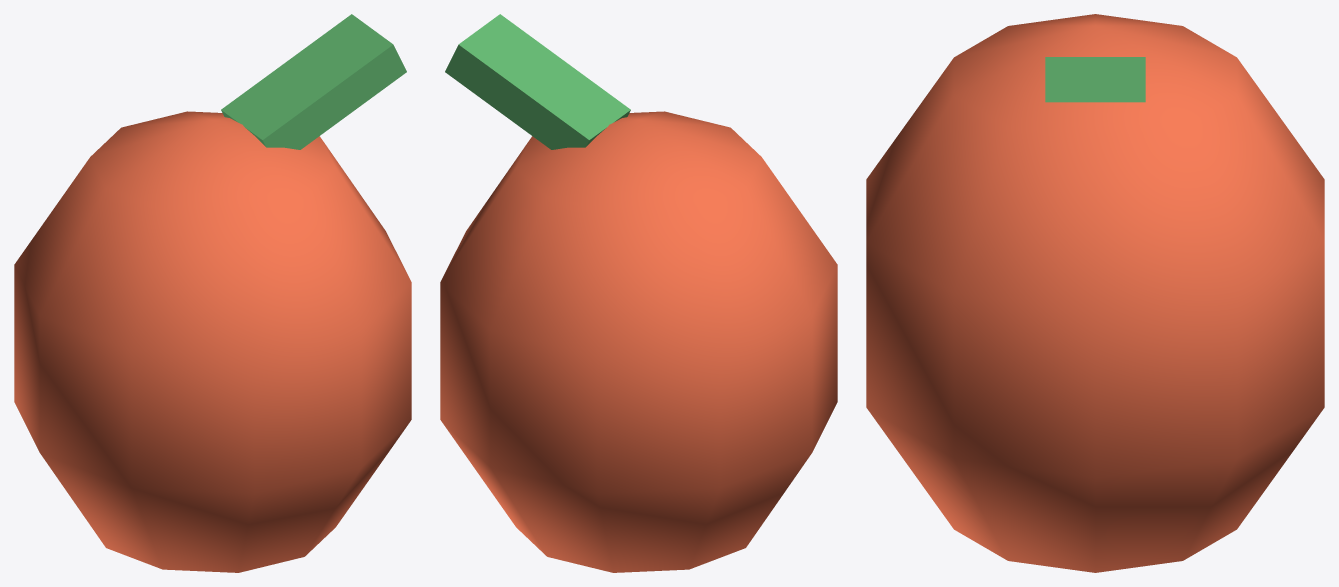
The model's file is food.glb.
The picture shows the model from 3 angles, left to right: view 1: azimuth 30°, elevation 25°; view 2: azimuth 150°, elevation 25°; view 3: azimuth 270°, elevation 25°; orthographic projection. The views are drawn at different scales.
Visible parts, largest first — view 1: food; view 2: food; view 3: food.
Part boxes in pixels (x1,y1,x2,y2): food: [14, 14, 411, 572]; food: [440, 14, 837, 572]; food: [866, 14, 1324, 572].
Bounding box in the file's own units: 0.4798 × 0.6567 × 0.4559.
